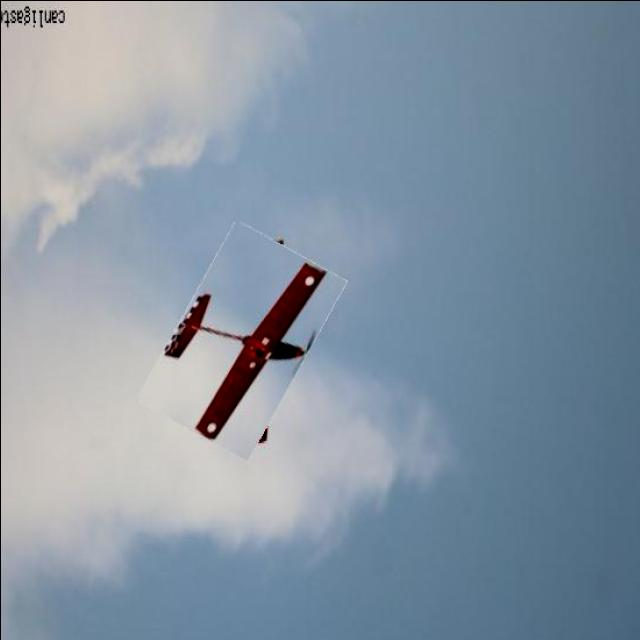plane: (138, 221, 348, 462)
